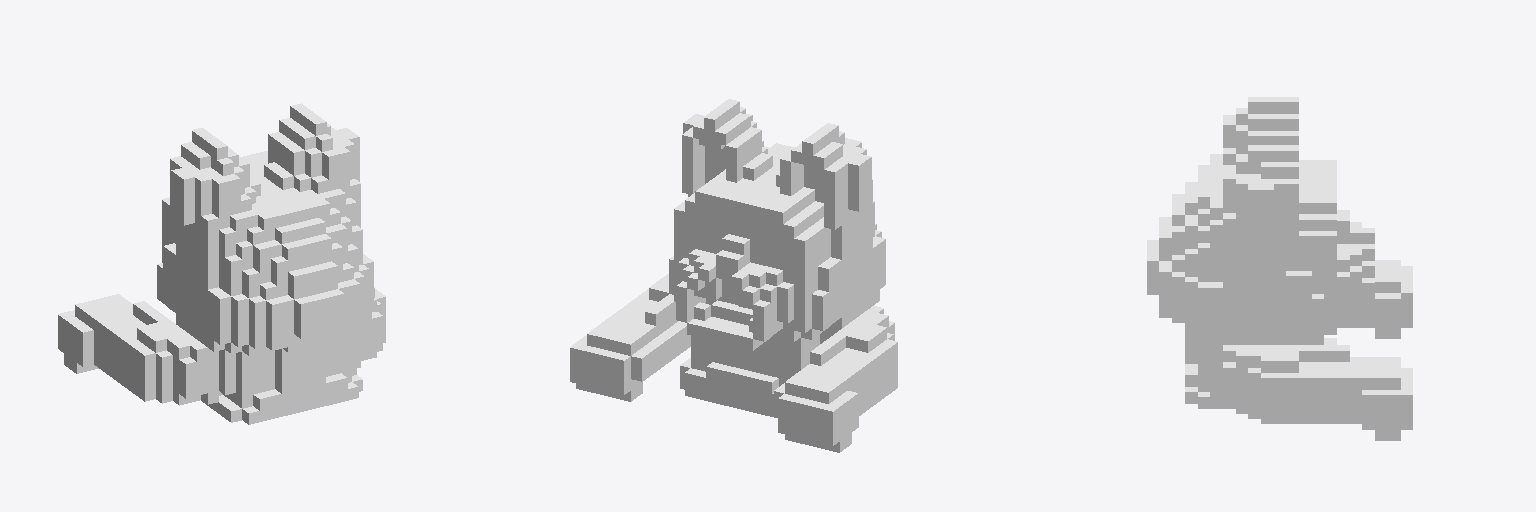
File: BigCat.obj
The picture shows the model from 3 angles: view 1: azimuth 30°, elevation 25°; view 2: azimuth 150°, elevation 25°; view 3: azimuth 270°, elevation 25°; orthographic projection.
Parts seen in each view (by area): view 1: object 1; view 2: object 1; view 3: object 1.
Boxes of the visible parts, <box> form: object 1: <box>58,103,385,424</box>; object 1: <box>570,99,897,452</box>; object 1: <box>1147,97,1412,440</box>.
Bounding box in the file's own units: 2.4 × 2.3 × 2.1.